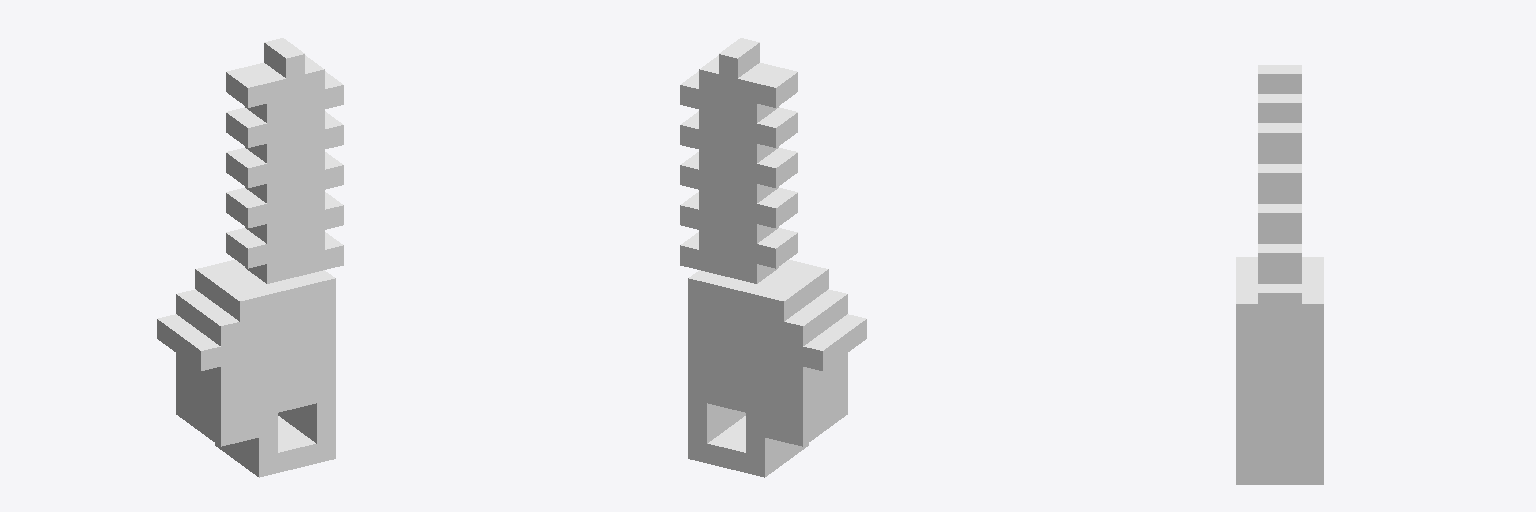
Rendered from chainsaw_0.obj.
3 views of the same model, side by side, from view 1: azimuth 30°, elevation 25°; view 2: azimuth 150°, elevation 25°; view 3: azimuth 270°, elevation 25° (orthographic).
Parts seen in each view (by area): view 1: object 1; view 2: object 1; view 3: object 1.
Part boxes in pixels (x1,y1,x2,y2): object 1: (157, 38, 343, 477); object 1: (680, 38, 866, 477); object 1: (1236, 65, 1323, 484).
Size of the model in its own units: 0.8 by 2 by 0.4.